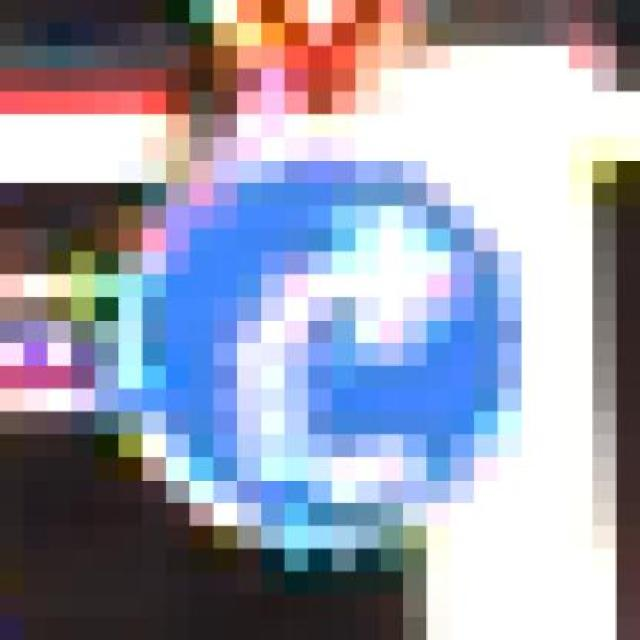Turn right ahead: (118, 114, 545, 572)
